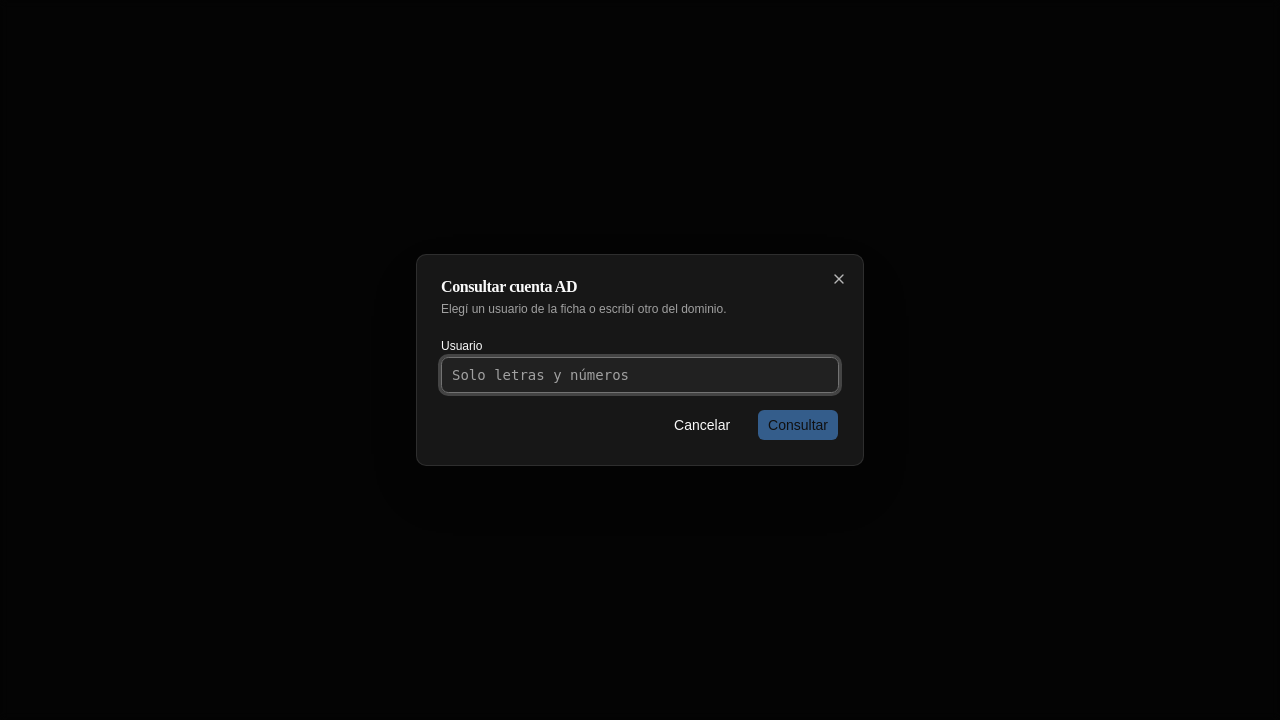
Test: NetUserChooserDialog › disables submit for invalid characters
Type "operador.demo01" into the field labelled "Usuario" at (640, 375), box top-left (441, 357), bottom-right (839, 393)
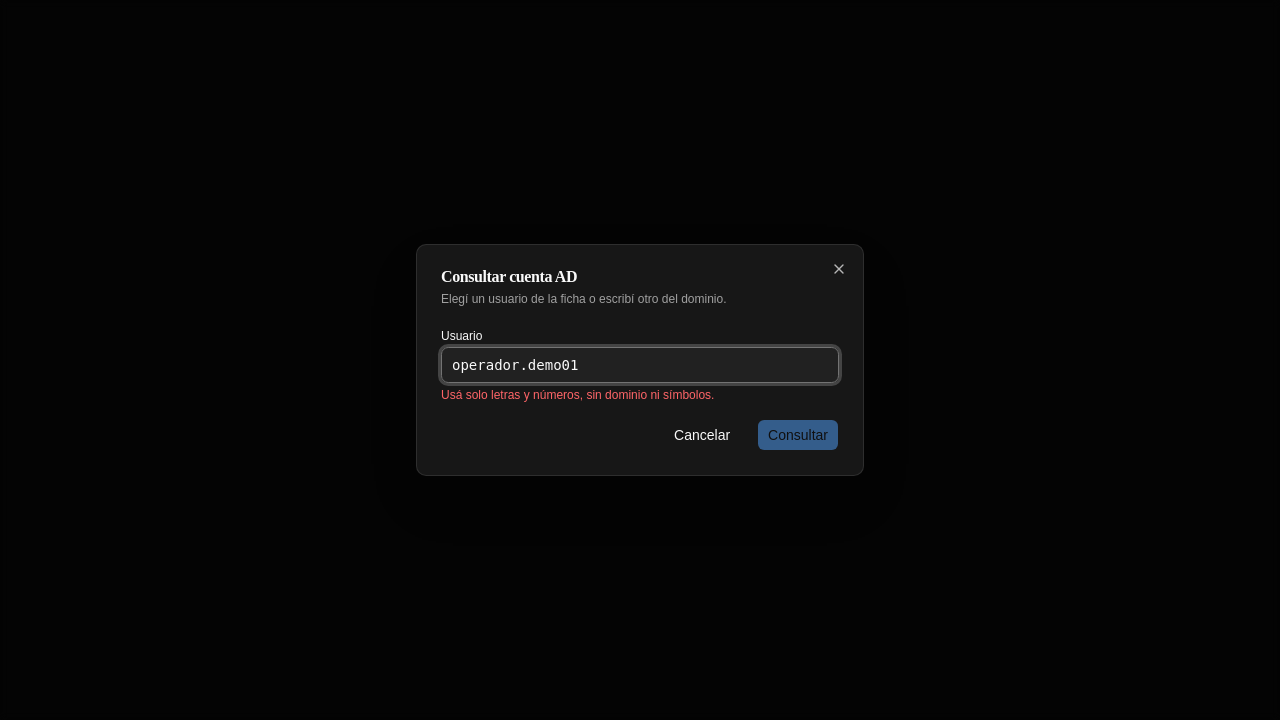
Expected: the button "Consultar" is disabled, top-left (757, 419), bottom-right (839, 451)
Expected: the text "Usá solo letras y números, sin dominio ni símbolos." is shown, top-left (441, 388), bottom-right (714, 402)
